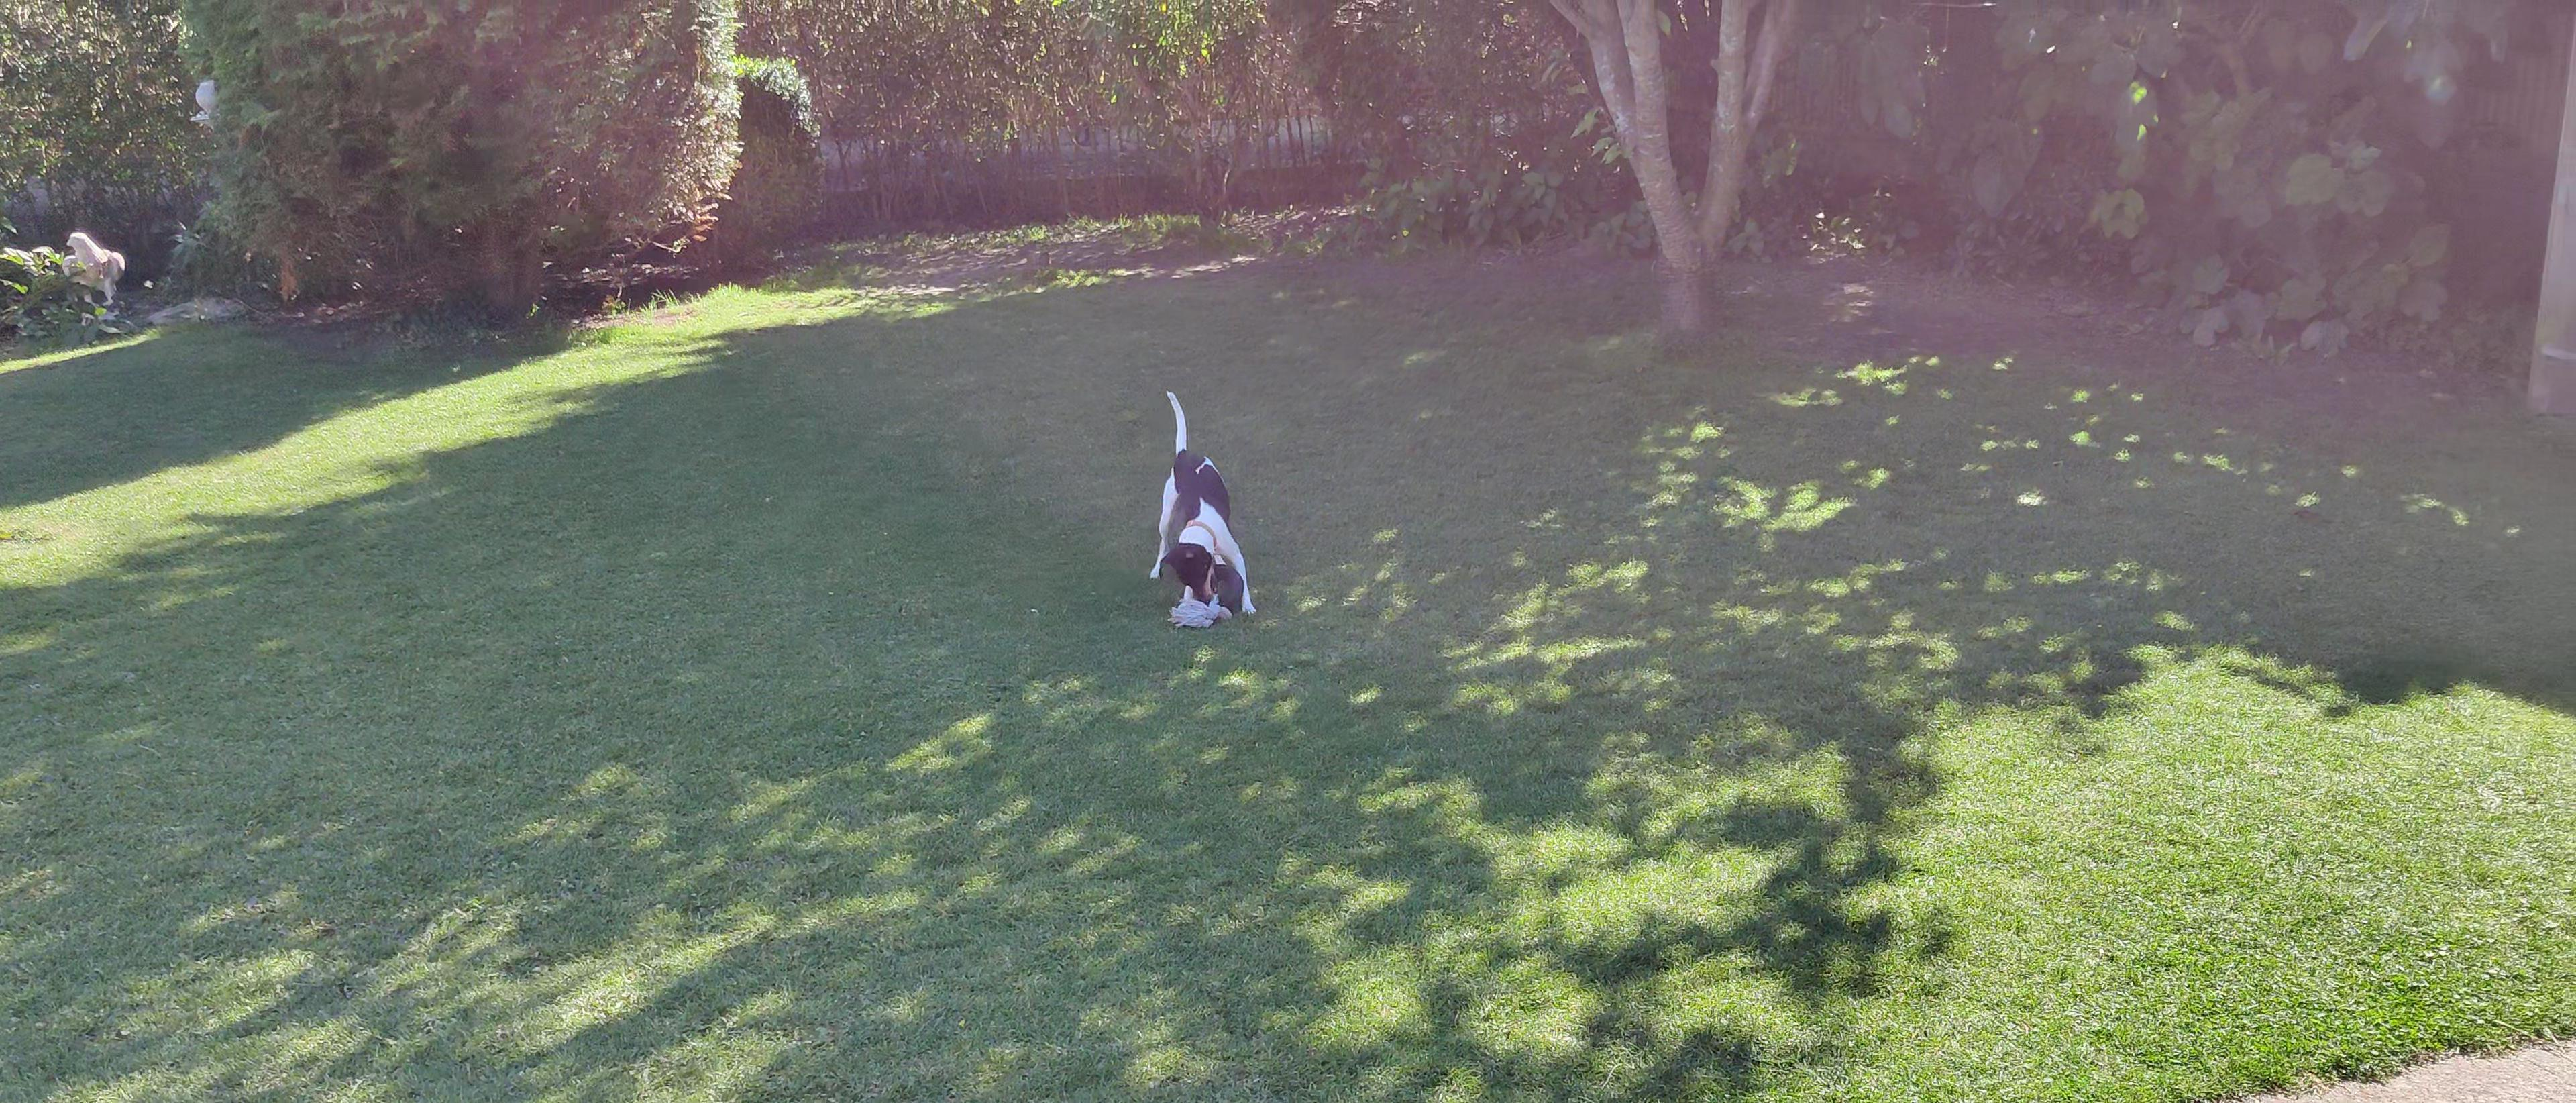Dog: (1124, 380, 1262, 625)
